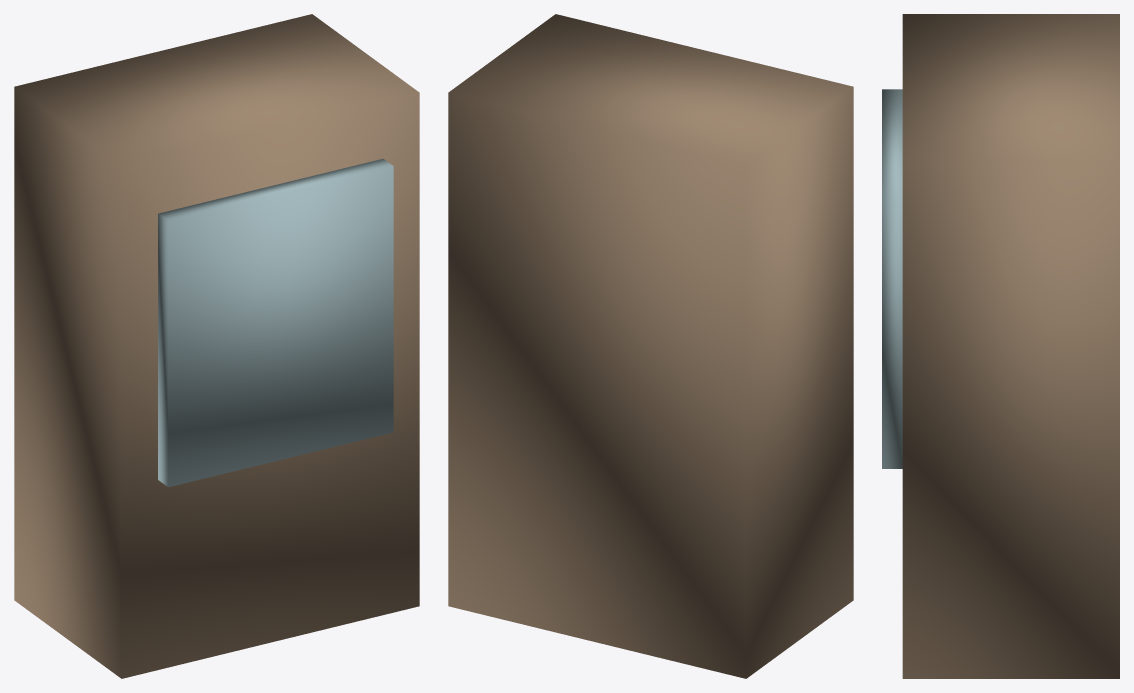
File: shrine_cabinet__deep.glb
3 views of the same model, side by side, from view 1: azimuth 30°, elevation 25°; view 2: azimuth 150°, elevation 25°; view 3: azimuth 270°, elevation 25° (orthographic).
Parts seen in each view (by area): view 1: world; view 2: world; view 3: world.
Boxes of the visible parts, x1,y1,x2,y2 form: world: (14, 14, 419, 678); world: (448, 14, 853, 678); world: (882, 14, 1119, 678).
Bounding box in the file's own units: 0.82 × 1.35 × 0.5612.
